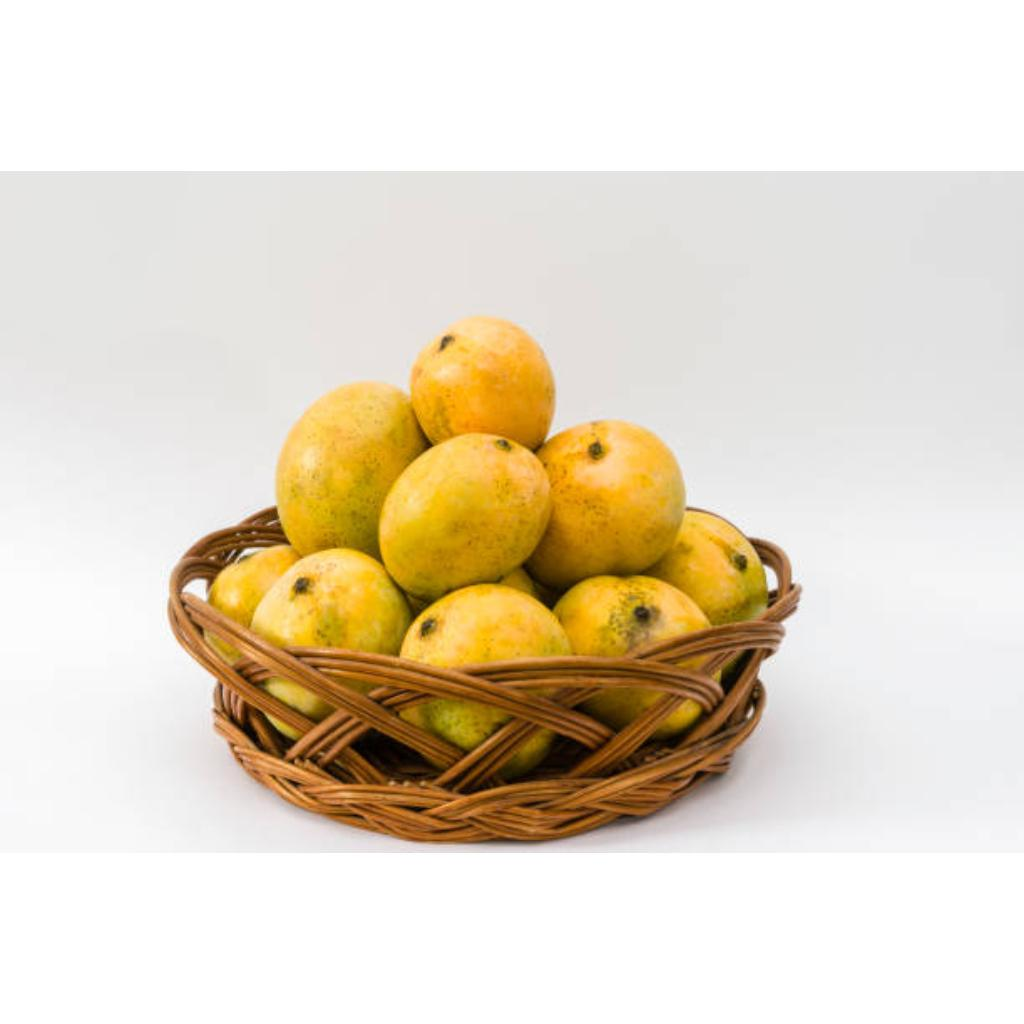mango: (378, 435, 552, 602), (276, 383, 430, 558), (526, 425, 686, 588), (410, 317, 556, 450), (250, 549, 412, 654), (400, 585, 572, 668), (644, 511, 766, 625), (554, 579, 710, 656), (208, 545, 300, 626)
